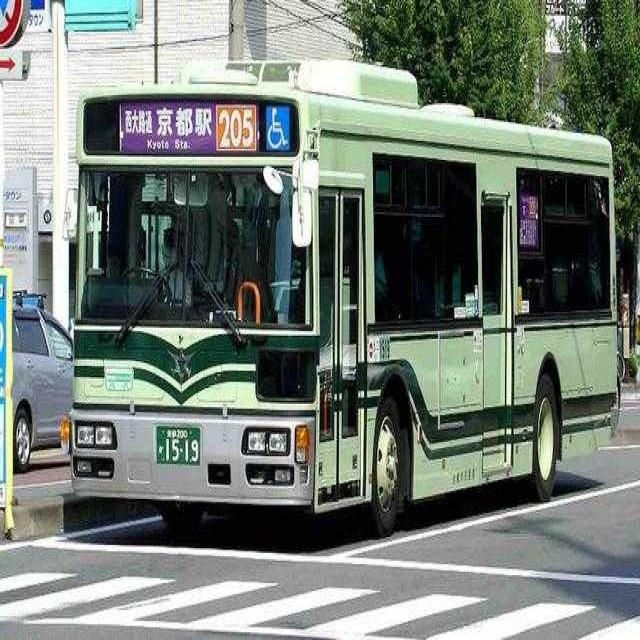Bus: (62, 58, 626, 539)
